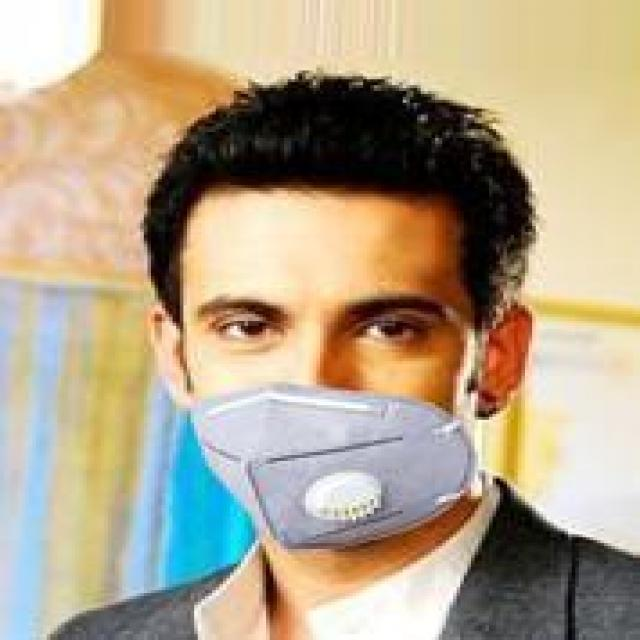mask: (122, 103, 594, 558)
